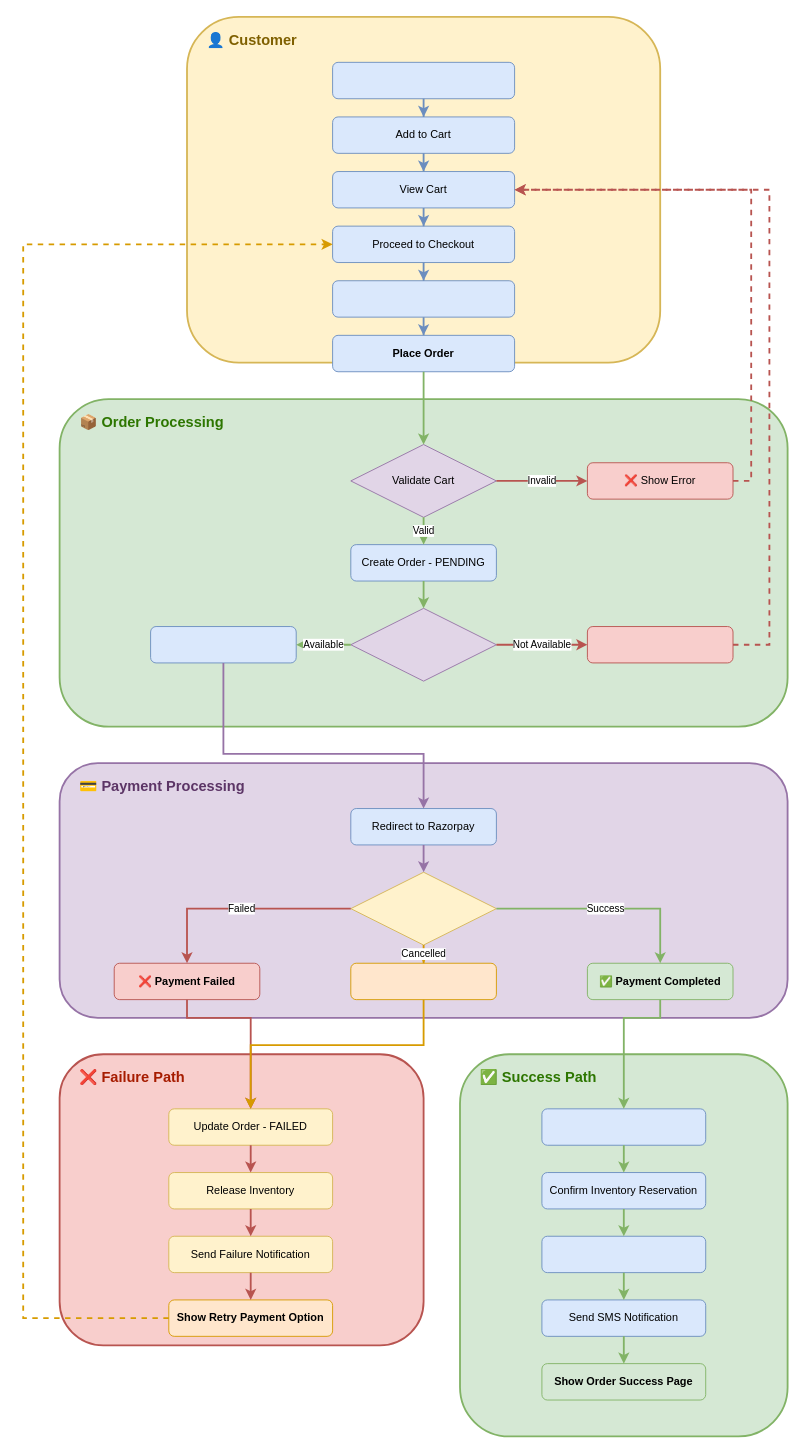
Some shapes in this 804 by 1452 pixel diagram are drawn without their labels. Here are the shapes that lost their labels. From the top down, the centre of each, then its label:
At (x=423, y=80): "Browse Products".
At (x=423, y=298): "Enter Shipping / Billing".
At (x=223, y=644): "Reserve Inventory".
At (x=423, y=644): "Check Inventory".
At (x=659, y=644): "❌ Out of Stock Error".
At (x=423, y=908): "Payment Status".
At (x=423, y=981): "⚠️ Payment Cancelled".
At (x=623, y=1126): "Update Order - CONFIRMED".
At (x=623, y=1254): "Send Order Confirmation Email".
